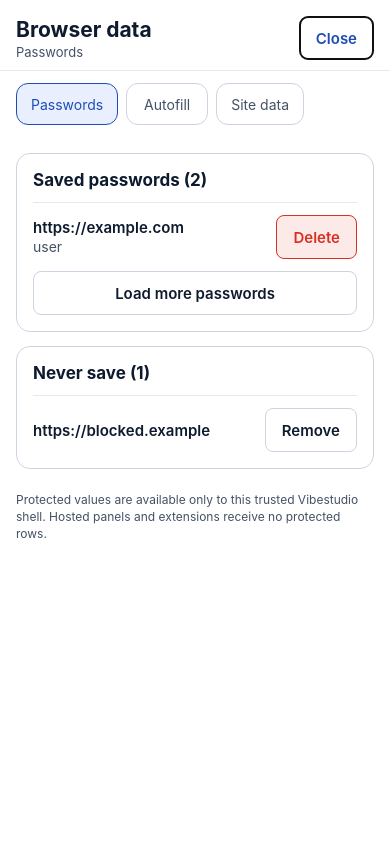
BrowserPrivacyManager › loads the requested page and paginates password summaries
expect the text "https://example.com" is shown: met, box left=33, top=218, right=184, bottom=236
Click the button "Load more passwords" at (195, 293), box left=33, top=271, right=357, bottom=315
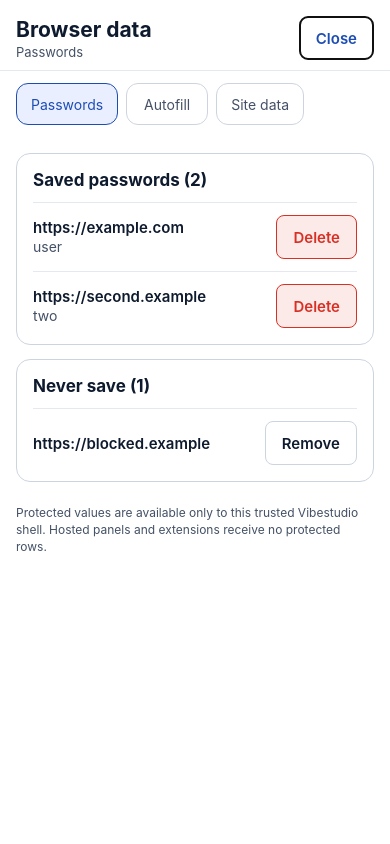
expect the text "https://second.example" is shown: met, box left=33, top=286, right=206, bottom=306
